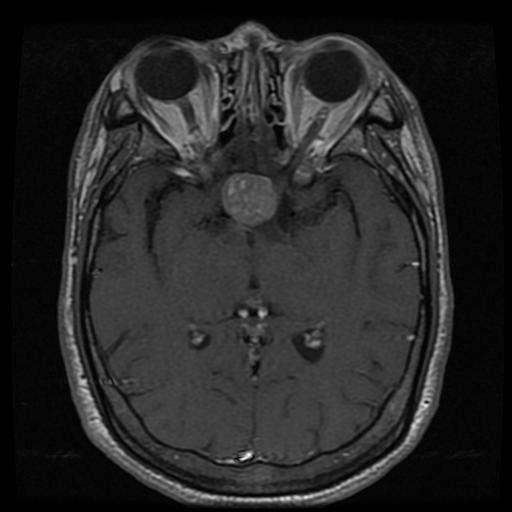Tumour-Pituitary: (216, 173, 285, 228)
